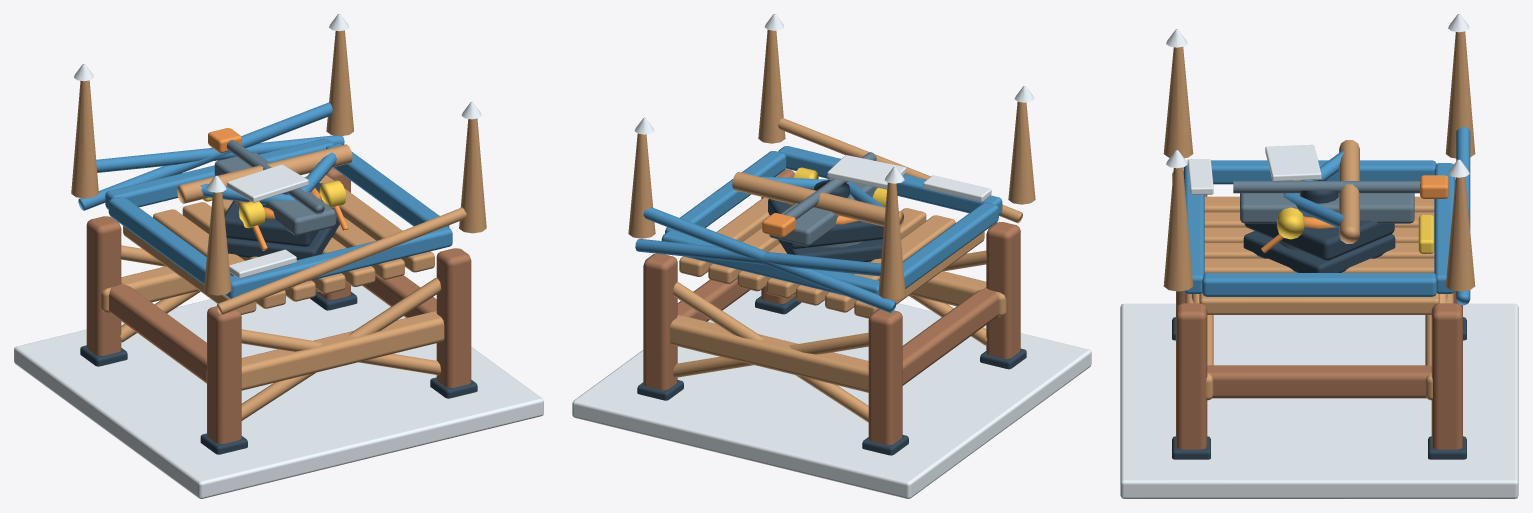
The model's file is defense_platform.glb.
3 renders of one model, left to right at view 1: azimuth 30°, elevation 25°; view 2: azimuth 150°, elevation 25°; view 3: azimuth 270°, elevation 25°, orthographic. The views are drawn at different scales.
Visible parts, largest first — view 1: defense_platform; view 2: defense_platform; view 3: defense_platform.
Boxes of the visible parts, left/top/right/bottom form: defense_platform: left=14, top=14, right=543, bottom=498; defense_platform: left=572, top=14, right=1091, bottom=498; defense_platform: left=1120, top=14, right=1518, bottom=498.
Bounding box in the file's own units: 3.25 × 2.78 × 3.05.
